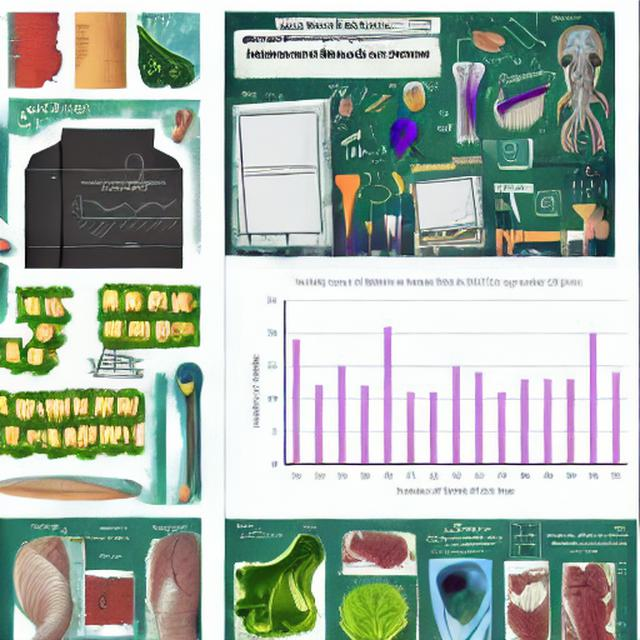Graph: (239, 268, 638, 508), (66, 178, 183, 247)
